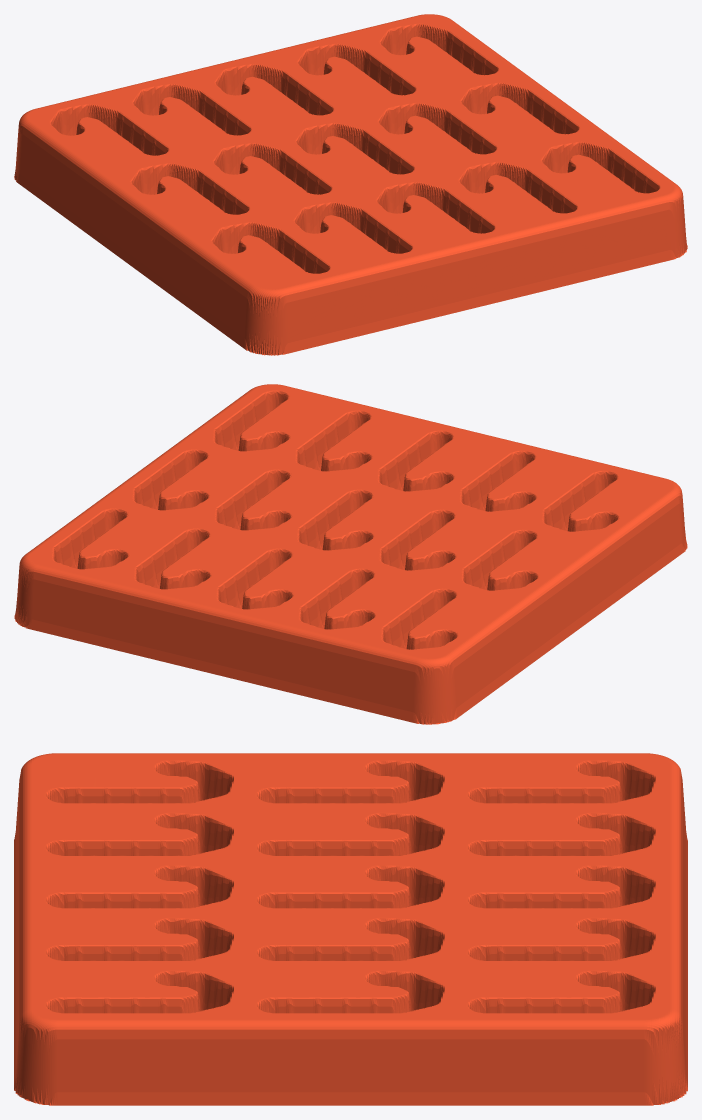
Rendered from mold.glb.
The picture shows the model from 3 angles, top to bottom: view 1: azimuth 30°, elevation 25°; view 2: azimuth 150°, elevation 25°; view 3: azimuth 270°, elevation 25°; orthographic projection. The views are drawn at different scales.
Parts seen in each view (by area): view 1: geometry_0; view 2: geometry_0; view 3: geometry_0.
Part boxes in pixels (x1,y1,x2,y2): geometry_0: (14, 14, 687, 355); geometry_0: (14, 384, 687, 724); geometry_0: (14, 753, 687, 1105).
Size of the model in its own units: 0.1392 by 0.0182 by 0.1415.
